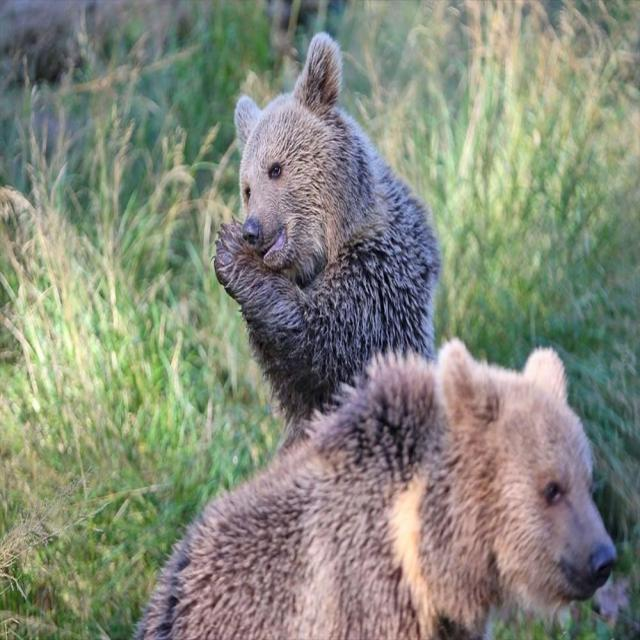Bear: (129, 340, 618, 640), (213, 34, 443, 445)
